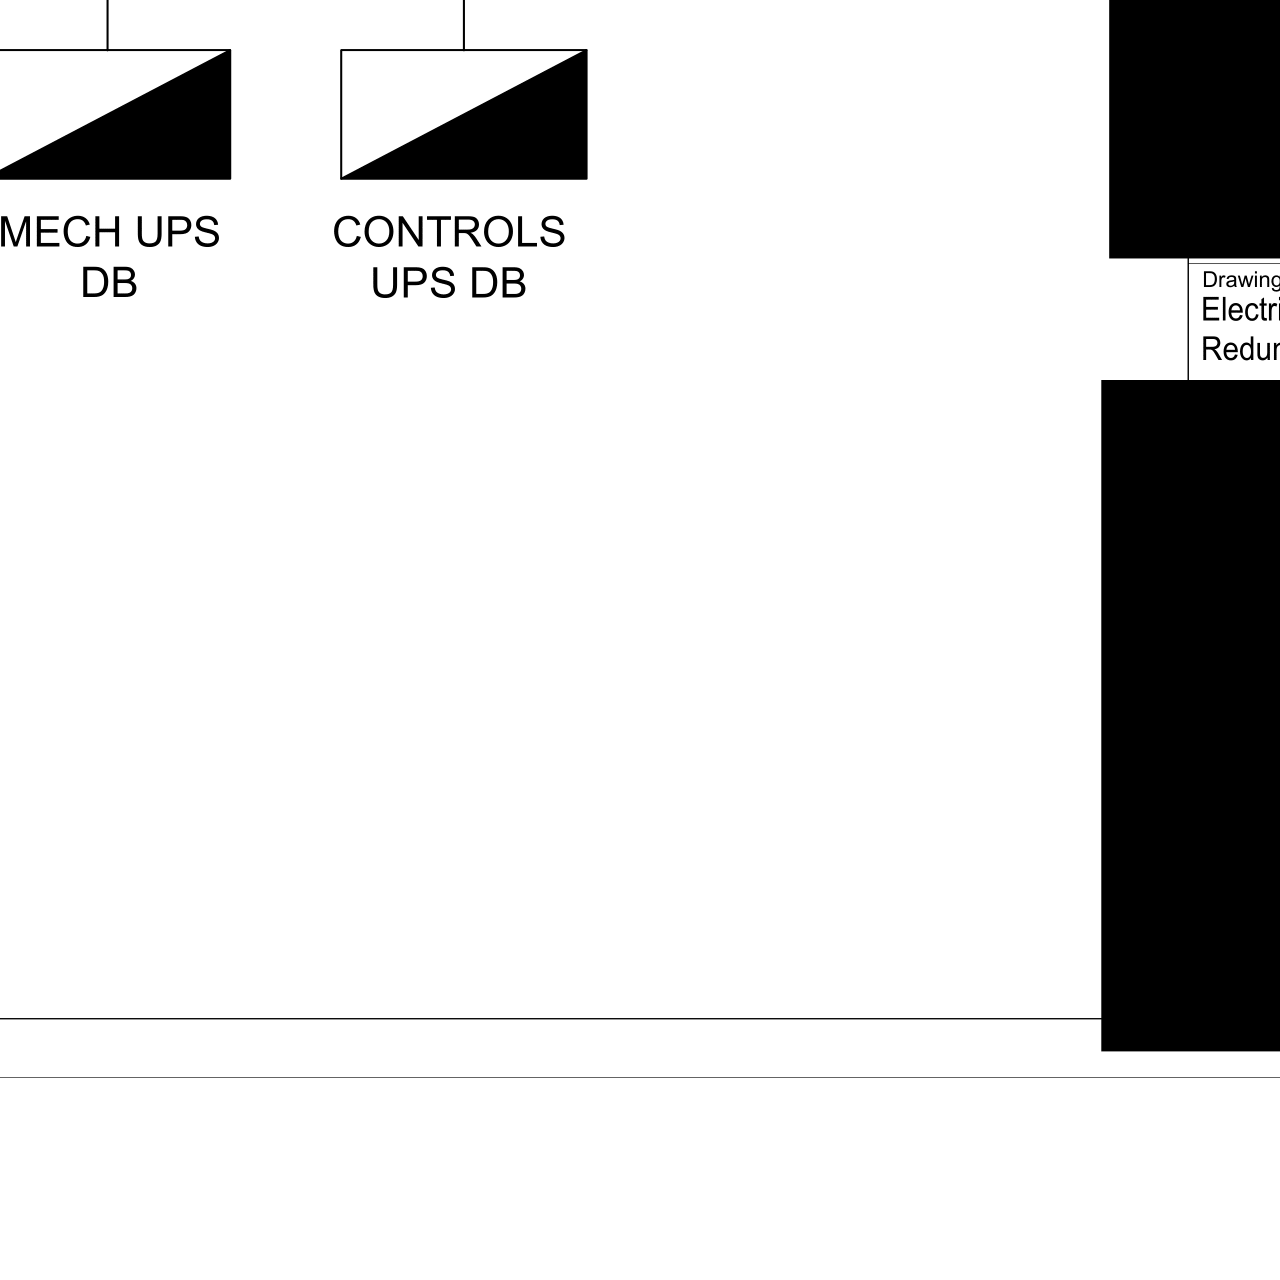Distribution Board: (322, 35, 608, 198)
